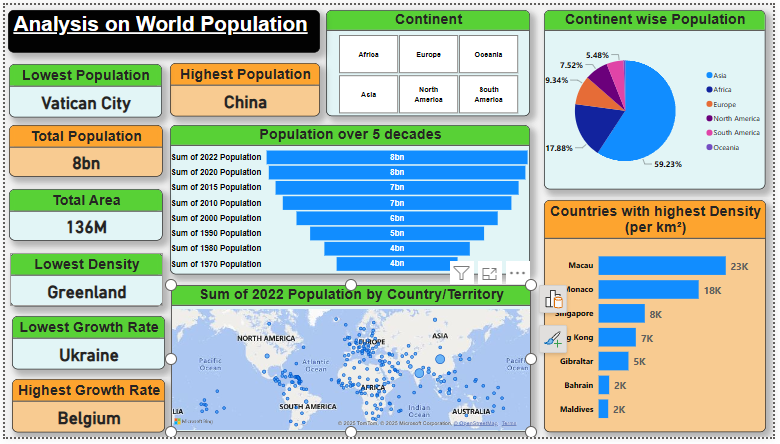

The page's visual inventory and layout, read from the dashboard file:
{"tool":"powerbi","page":{"name":"Page 1","canvas":[1280,720],"ordinal":0},"visuals":[{"type":"slicer","title":"Continent","fields":{"Values":["world_population.Continent"]},"box":[535.7,8.6,340,177.1],"z":0},{"type":"card","title":"Total Population","fields":{"Values":["Sum(world_population.2022 Population)"]},"box":[7.1,200,255.7,85.7],"z":1000},{"type":"card","title":"Total Area","fields":{"Values":["Sum(world_population.Area (km²))"]},"box":[7.1,307.1,255.7,85.7],"z":2000},{"type":"funnel","title":"Population over 5 decades","fields":{"Y":["Sum(world_population.2022 Population)","Sum(world_population.2020 Population)","Sum(world_population.2015 Population)","Sum(world_population.2010 Population)","Sum(world_population.2000 Population)","Sum(world_population.1990 Population)","Sum(world_population.1980 Population)","Sum(world_population.1970 Population)"]},"box":[275.7,200,600,248.6],"z":3000},{"type":"clusteredBarChart","title":"Countries with highest Density                    (per km²)","fields":{"Category":["world_population.Country/Territory"],"Y":["Sum(world_population.Density (per km²))"]},"box":[898.6,324.3,370,387.1],"z":4000},{"type":"map","fields":{"Category":["world_population.Country/Territory"],"Size":["Sum(world_population.2022 Population)"]},"box":[276.2,466.2,600,245],"z":5000},{"type":"pieChart","title":"Continent wise Population","fields":{"Category":["world_population.Continent"],"Y":["Sum(world_population.World Population Percentage)"]},"box":[899,8,369,299],"z":6000},{"type":"card","title":"Highest Population","fields":{"Values":["Min(world_population.Country/Territory)"]},"box":[275,96.2,250,88.8],"z":7000},{"type":"card","title":"Lowest Population","fields":{"Values":["Min(world_population.Country/Territory)"]},"box":[6.2,97.5,255,88.8],"z":8000},{"type":"textbox","title":"Analysis on World Population","box":[5.7,8.6,520,71.4],"z":9000},{"type":"card","title":"Lowest Density","fields":{"Values":["Min(world_population.Country/Territory)"]},"box":[8.8,412.5,255,88.8],"z":10000},{"type":"card","title":"Highest Growth Rate","fields":{"Values":["Min(world_population.Country/Territory)"]},"box":[11.2,622.5,255,88.8],"z":11000},{"type":"card","title":"Lowest Growth Rate","fields":{"Values":["Min(world_population.Country/Territory)"]},"box":[11.2,517.5,255,88.8],"z":12000}]}

Visuals, with their boxes in screenshot pixels (x1, y1, x2, y2), scaled from the page's 1280x720 canvas onto the 780x444 screenshot:
"Continent" slicer: box(326, 5, 534, 115)
"Total Population" card: box(4, 123, 160, 176)
"Total Area" card: box(4, 189, 160, 242)
"Population over 5 decades" funnel: box(168, 123, 534, 277)
"Countries with highest Density                    (per km²)" clusteredBarChart: box(548, 200, 773, 439)
map - world_population.Country/Territory x Sum(world_population.2022 Population): box(168, 287, 534, 439)
"Continent wise Population" pieChart: box(548, 5, 773, 189)
"Highest Population" card: box(168, 59, 320, 114)
"Lowest Population" card: box(4, 60, 159, 115)
"Analysis on World Population" textbox: box(3, 5, 320, 49)
"Lowest Density" card: box(5, 254, 161, 309)
"Highest Growth Rate" card: box(7, 384, 162, 439)
"Lowest Growth Rate" card: box(7, 319, 162, 374)
